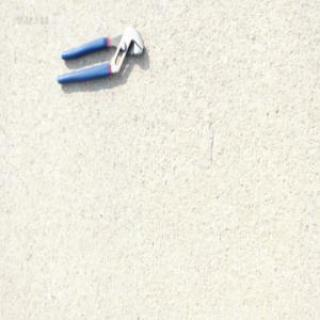Pliertrack_idkeyframe: (55, 24, 144, 86)
